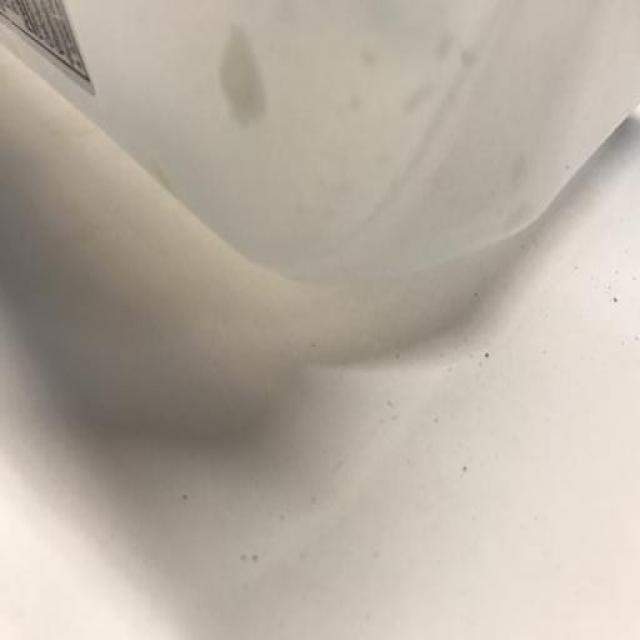plastic_bottle: (3, 1, 640, 558)
